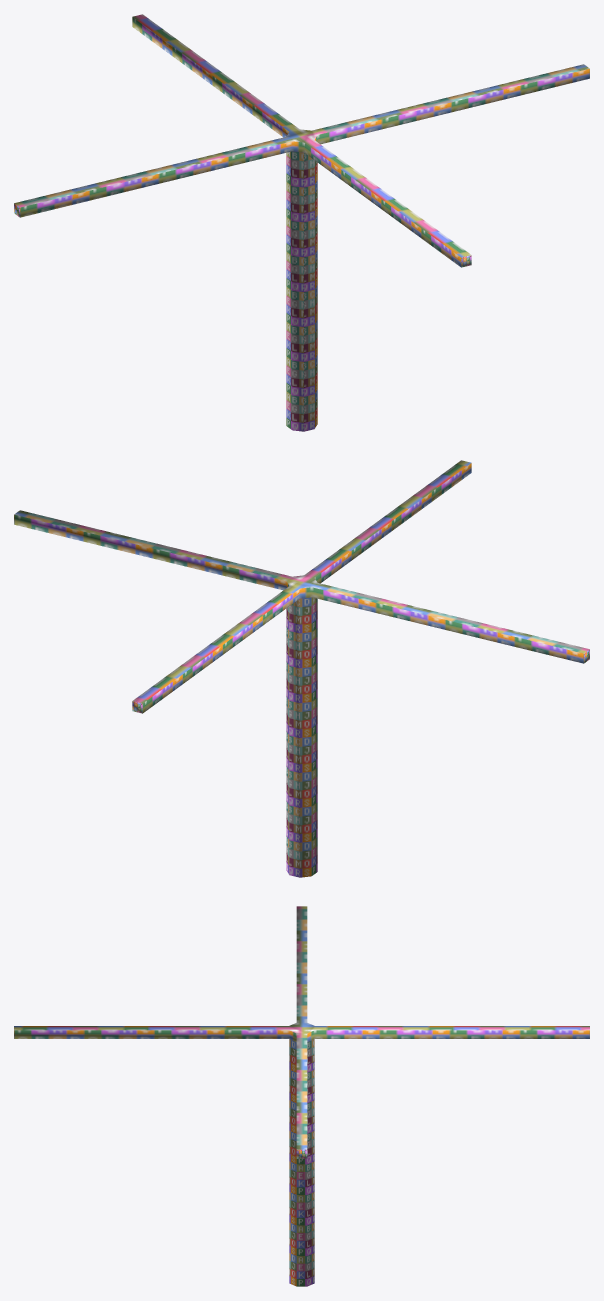
File: helix_base.obj
3 renders of one model, top to bottom at view 1: azimuth 30°, elevation 25°; view 2: azimuth 150°, elevation 25°; view 3: azimuth 270°, elevation 25°, orthographic. The views are drawn at different scales.
Visible parts, largest first — view 1: cylinder2; view 2: cylinder2; view 3: cylinder2.
Part boxes in pixels (bbox=[...]): cylinder2: bbox=[14, 14, 589, 431]; cylinder2: bbox=[14, 460, 589, 877]; cylinder2: bbox=[14, 906, 589, 1286].
Bounding box in the file's own units: 10 × 4.85 × 10.
1 material, 1 textured.
